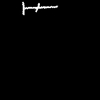double_crochet: (22, 2, 56, 14)
